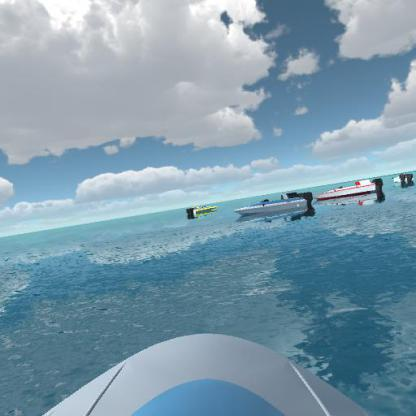usv1: (232, 190, 320, 222), (389, 165, 416, 188)
usv2: (177, 197, 227, 222)
usv3: (312, 174, 391, 206)
